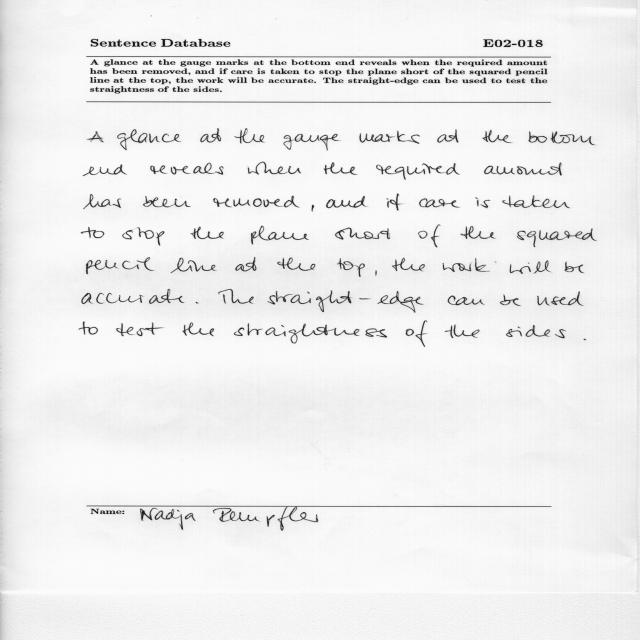word: (268, 290, 424, 313), (234, 324, 387, 344), (82, 289, 185, 304), (517, 229, 597, 248), (376, 163, 460, 180), (117, 129, 181, 150), (86, 258, 154, 275), (251, 226, 309, 244), (484, 163, 562, 176), (284, 134, 340, 151), (214, 196, 300, 207), (529, 131, 595, 145), (150, 163, 224, 175), (502, 195, 570, 208), (122, 227, 165, 246), (360, 131, 420, 144), (506, 325, 566, 338), (171, 258, 217, 273), (537, 291, 583, 306), (335, 228, 390, 240), (443, 258, 490, 272), (248, 162, 301, 174), (116, 323, 163, 336), (510, 260, 551, 274), (84, 194, 121, 209), (406, 321, 427, 347), (218, 289, 254, 304), (277, 257, 315, 271), (337, 258, 365, 277), (83, 164, 127, 176), (143, 196, 191, 207), (326, 196, 367, 208), (418, 225, 440, 247), (234, 129, 265, 144), (461, 226, 496, 239), (445, 325, 480, 338), (183, 323, 214, 337), (324, 162, 357, 175), (392, 258, 425, 271), (419, 198, 460, 208), (190, 227, 224, 239), (482, 130, 512, 143), (448, 296, 484, 306), (236, 257, 257, 272), (201, 129, 222, 143), (438, 130, 459, 143), (82, 227, 105, 238), (79, 322, 98, 335), (387, 194, 402, 210), (500, 295, 521, 306), (565, 262, 584, 273), (88, 131, 104, 142), (476, 197, 491, 208), (312, 205, 314, 212), (375, 270, 377, 276), (196, 302, 199, 303), (584, 339, 586, 340)
